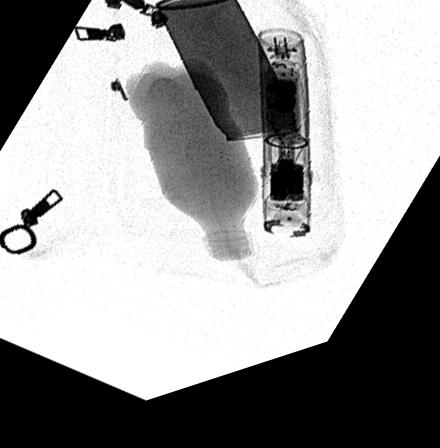Baton: (255, 44, 311, 259)
